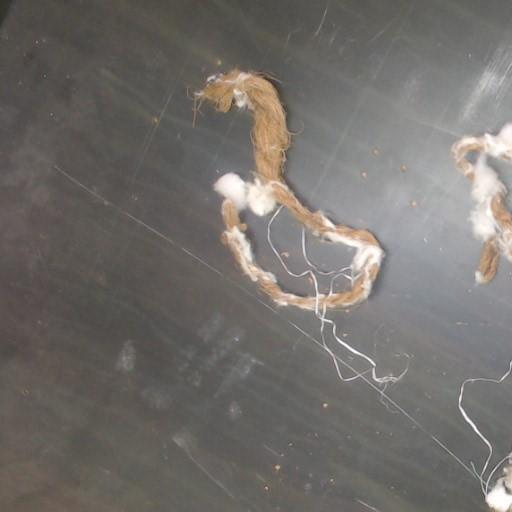conveyor belt: (0, 0, 511, 511)
jute: (195, 69, 383, 311), (452, 123, 511, 283)
thread: (312, 305, 425, 431), (268, 208, 323, 296), (447, 449, 487, 491), (463, 412, 490, 467), (324, 272, 351, 295), (432, 435, 447, 449)
